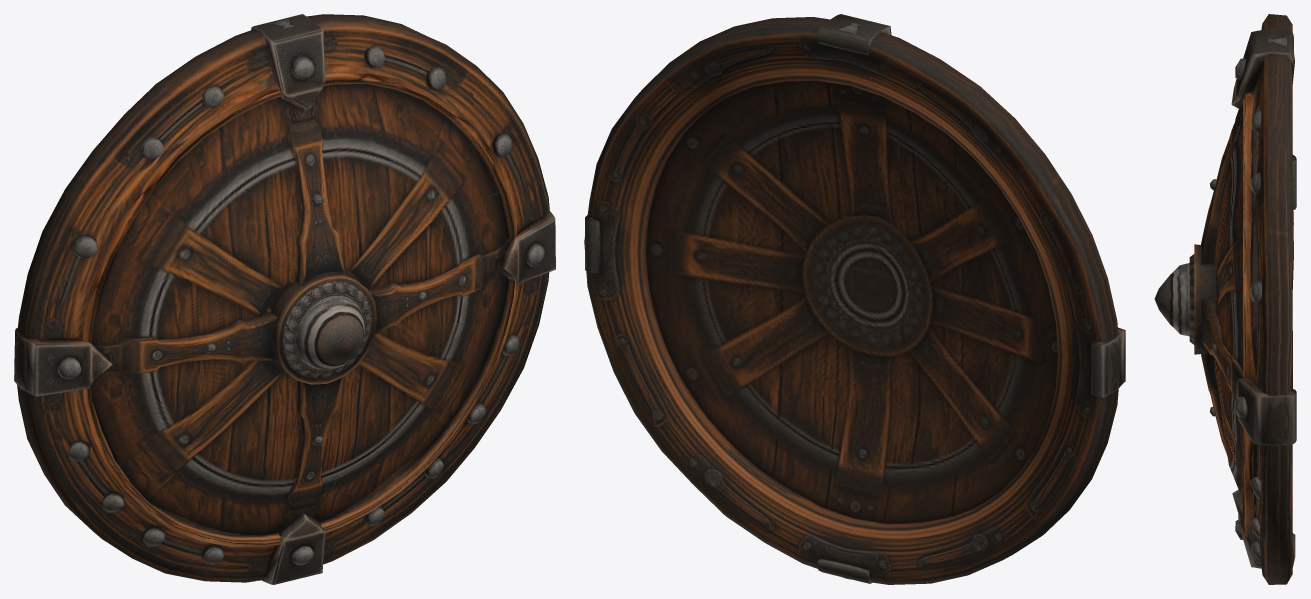
Rendered from wooden_shield.glb.
The picture shows the model from 3 angles, left to right: view 1: azimuth 30°, elevation 25°; view 2: azimuth 150°, elevation 25°; view 3: azimuth 270°, elevation 25°; orthographic projection. The views are drawn at different scales.
Bounding box in the file's own units: 0.9575 × 0.9521 × 0.2358.
1 material, 1 textured.
